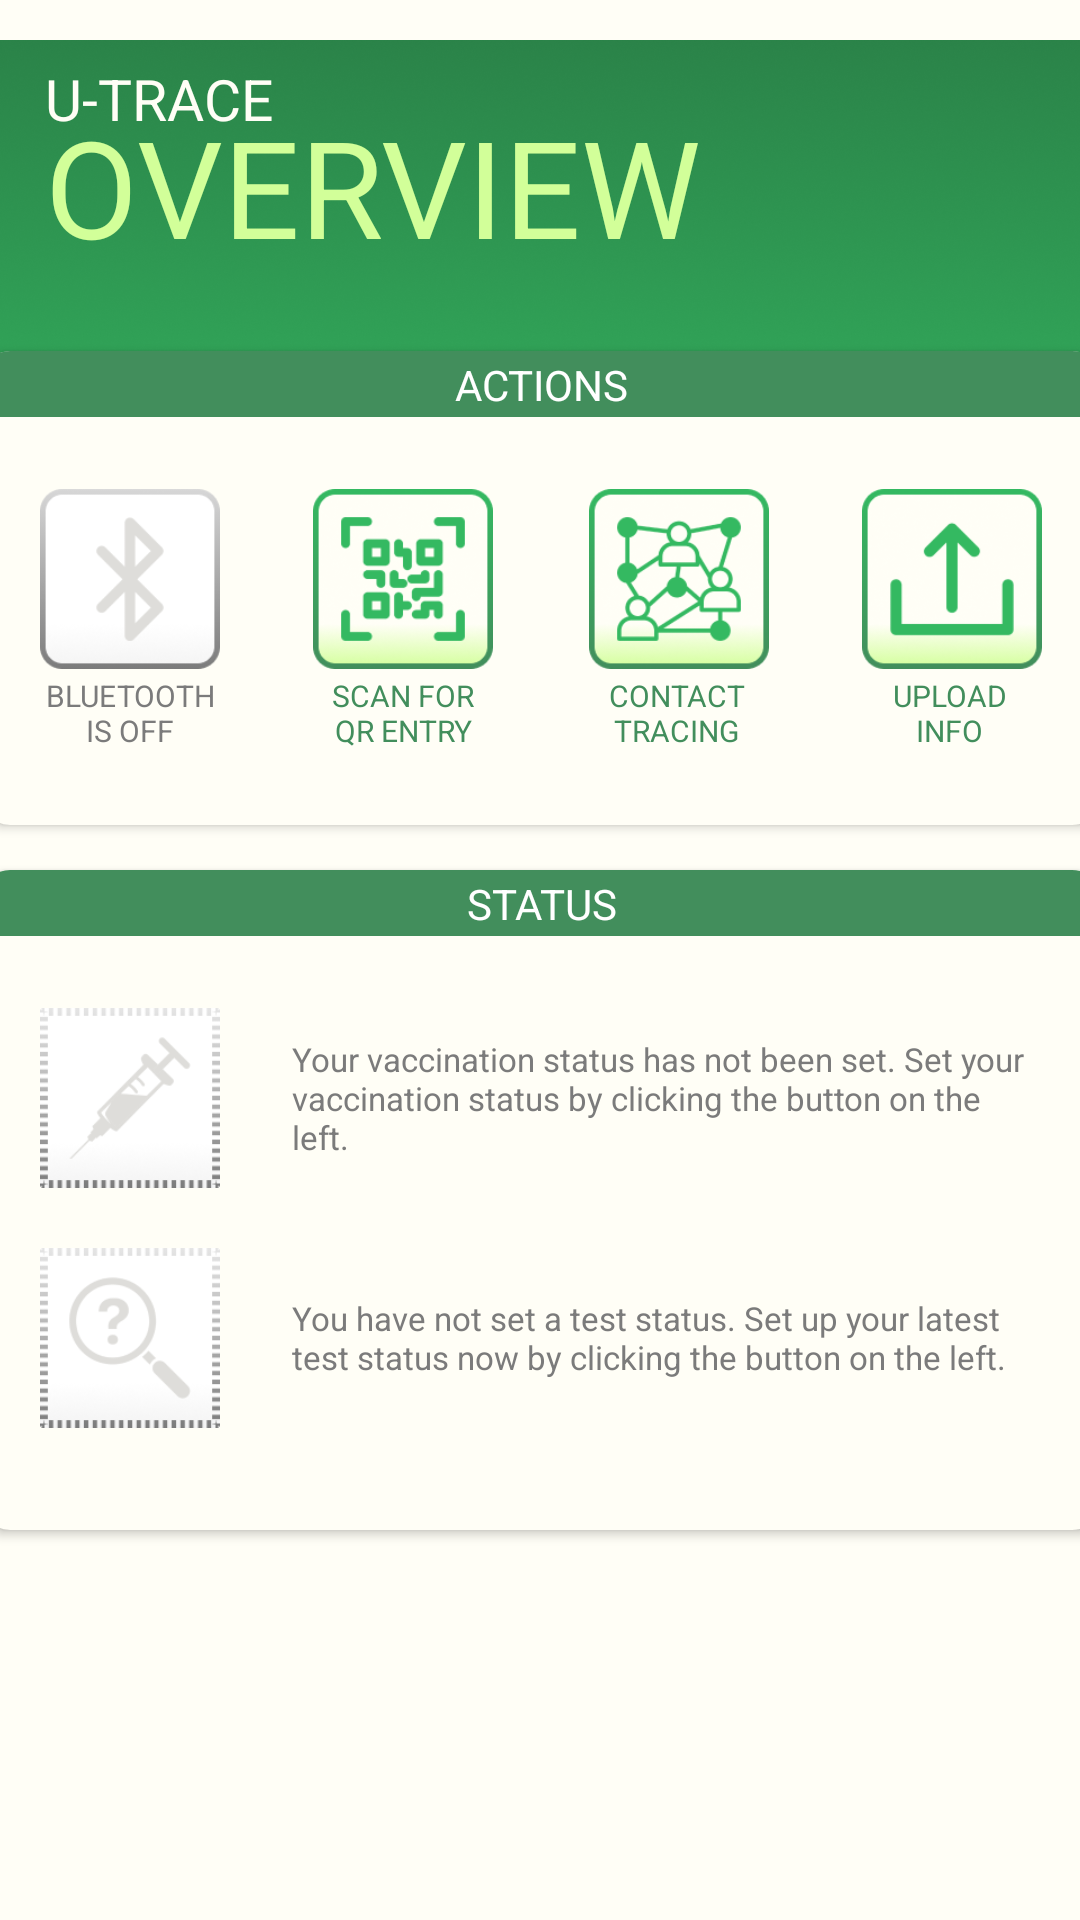

Where to tap for icons on this 1080px×1920px app screen, as point (x, y):
vax base: point (130, 1098)
